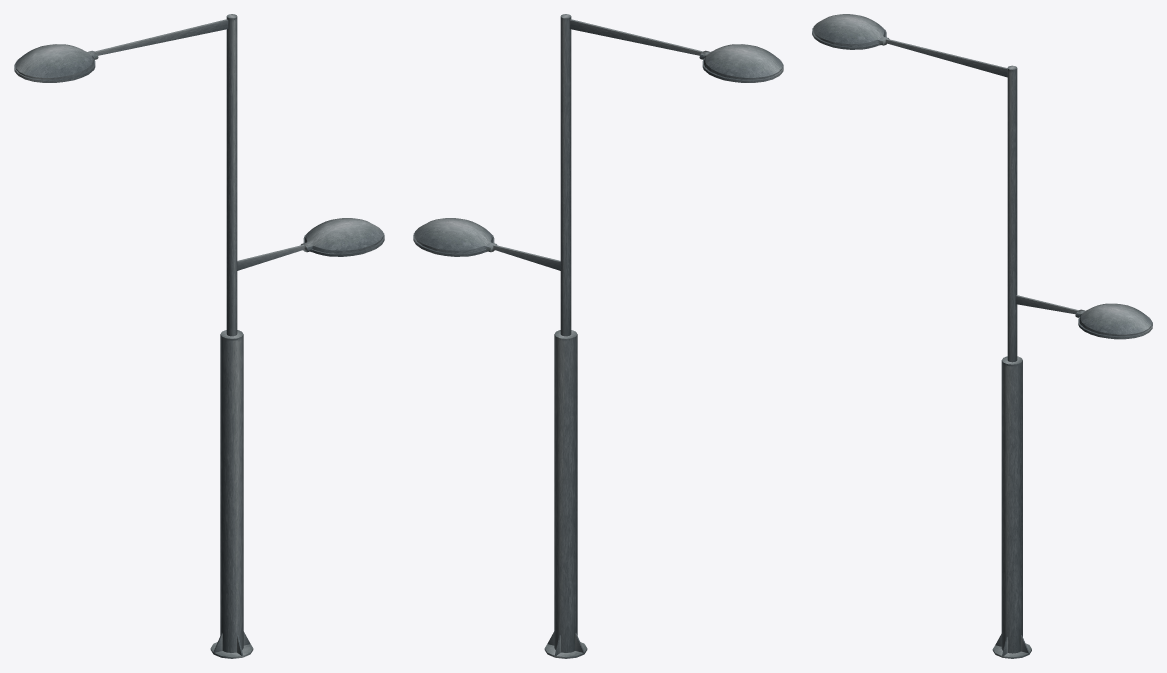
3 renders of one model, left to right at view 1: azimuth 30°, elevation 25°; view 2: azimuth 150°, elevation 25°; view 3: azimuth 330°, elevation 25°, orthographic. The views are drawn at different scales.
Parts seen in each view (by area): view 1: MainBuilding; view 2: MainBuilding; view 3: MainBuilding.
Boxes of the visible parts, x1,y1,x2,y2 form: MainBuilding: (14,14,384,658); MainBuilding: (413,14,783,658); MainBuilding: (812,14,1152,658).
Bounding box in the file's own units: 5.3 × 9 × 0.9306.
Materials: 1 (1 with a texture image).
